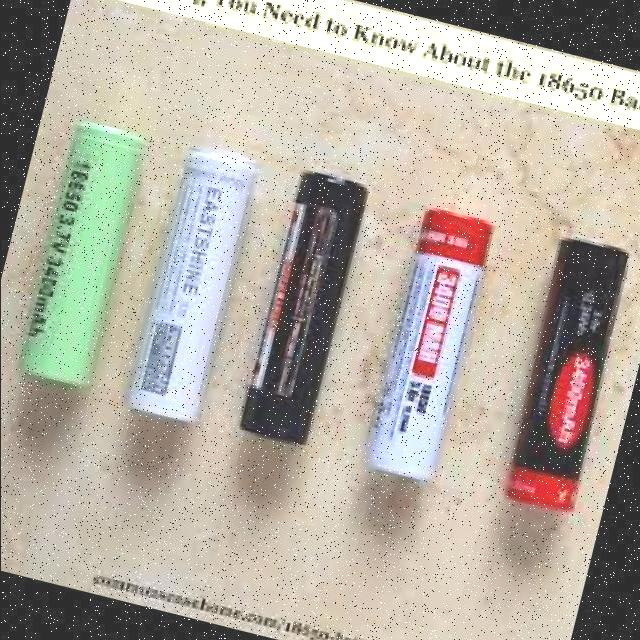AAA: (126, 146, 259, 423), (364, 205, 496, 482), (240, 171, 369, 446), (19, 119, 147, 389), (505, 237, 630, 512)
